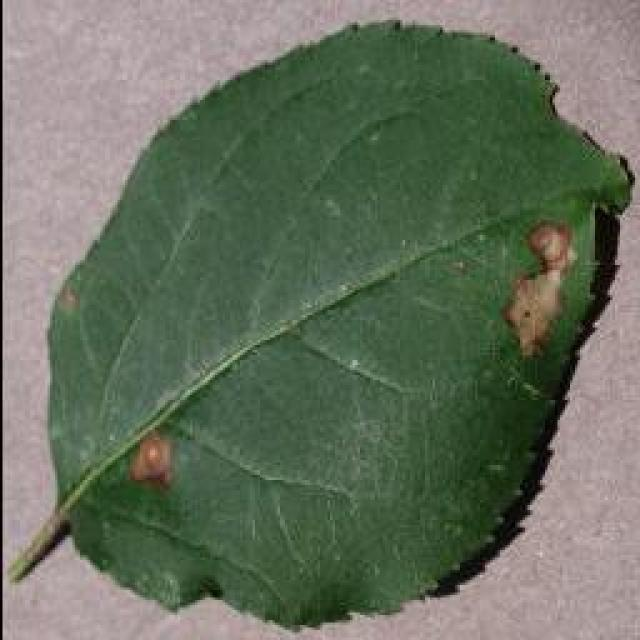Black_rot: (15, 15, 635, 630)
